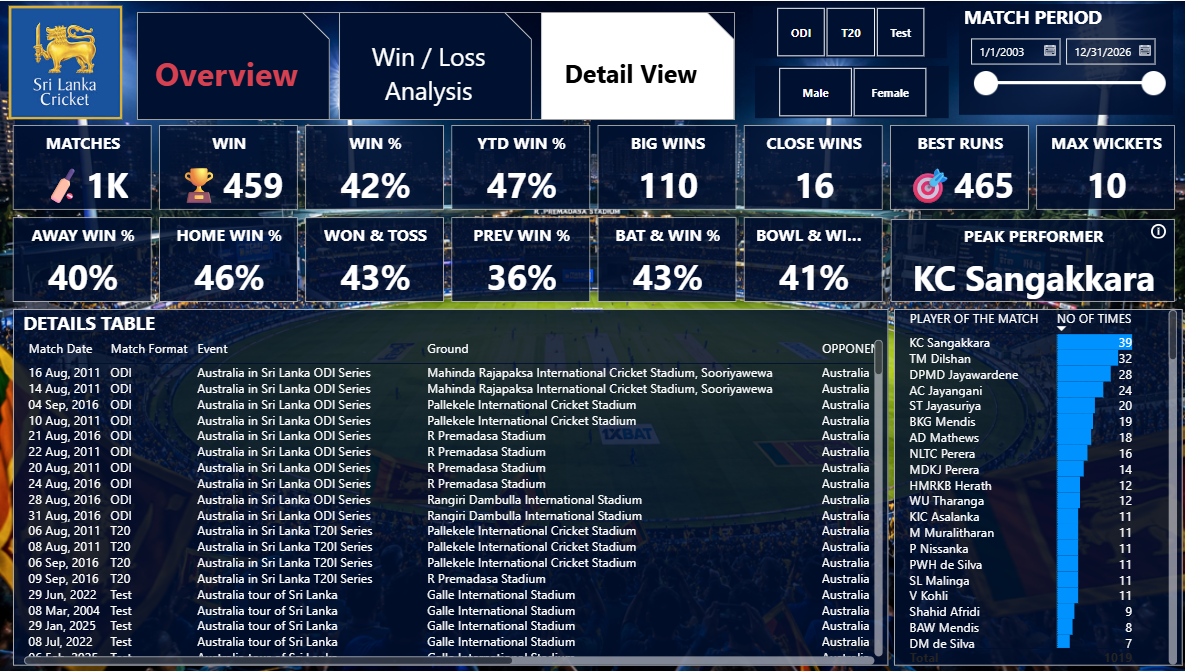

This screenshot's page, from the dashboard's own definition file:
{"tool":"powerbi","page":{"name":"Detail View","canvas":[1280,720],"ordinal":2},"visuals":[{"type":"image","box":[8.8,0,132.3,132.3],"z":0},{"type":"cardVisual","fields":{"Data":["Measures (2).No of Matches","Measures (2).WON","Measures (2).Win %","Measures (2).Win % Current Year","Measures (2).Big Wins","Measures (2).Close Wins","Measures (2).Biggest Win (Runs)","Measures (2).Biggest Win (Wickets)","Measures (2).Away Win %","Measures (2).Home Win %","Measures (2).Toss Win Match Win %","Measures (2).Win % Previous Year"]},"box":[15,133.2,1258.5,190.1],"z":1000},{"type":"slicer","title":"MATCH FORMAT","fields":{"Values":["SLcricketData.Match_Format"]},"box":[813.4,5,208.3,56.1],"z":4000},{"type":"slicer","title":"MATCH PERIOD","fields":{"Values":["Calendar.Date"]},"box":[1034.2,3.7,229.6,118.5],"z":5000},{"type":"slicer","title":"MATCH FORMAT","fields":{"Values":["SLcricketData.Gender"]},"box":[814.7,69.9,208.3,56.1],"z":7000},{"type":"pageNavigator","box":[151.4,11.6,642.6,116.5],"z":9000},{"type":"tableEx","title":"DETAILS TABLE","fields":{"Values":["SLcricketData.Match_Date","SLcricketData.Match_Format","SLcricketData.Event_Name","SLcricketData.Ground","SLcricketData.Opponent","SLcricketData.Gender","SLcricketData.Home_Away","SLcricketData.Margin","SLcricketData.Toss_Winner","SLcricketData.Toss_Decision","SLcricketData.Winner","SLcricketData.Player_of_Match"]},"box":[18.3,330.7,939.6,383.4],"z":15500},{"type":"tableEx","fields":{"Values":["SLcricketData.Player_of_Match","CountNonNull(SLcricketData.Player_of_Match)"]},"box":[964,331,309.5,383.2],"z":15501},{"type":"cardVisual","fields":{"Data":["Measures (2).Most Frequent Player of Match"]},"box":[957.4,234,310.4,89.5],"z":15502},{"type":"actionButton","box":[1236,234.1,24.7,25.8],"z":15503}]}

Visuals, with their boxes in screenshot pixels (x1, y1, x2, y2), scaled from the page's 1280x720 canvas onto the 1185x671 screenshot:
image: (left=8, top=0, right=131, bottom=123)
cardVisual - Measures (2).No of Matches x Measures (2).WON: (left=14, top=124, right=1179, bottom=301)
"MATCH FORMAT" slicer: (left=753, top=5, right=946, bottom=57)
"MATCH PERIOD" slicer: (left=957, top=3, right=1170, bottom=114)
"MATCH FORMAT" slicer: (left=754, top=65, right=947, bottom=117)
pageNavigator: (left=140, top=11, right=735, bottom=119)
"DETAILS TABLE" tableEx: (left=17, top=308, right=887, bottom=666)
tableEx - SLcricketData.Player_of_Match x CountNonNull(SLcricketData.Player_of_Match): (left=892, top=308, right=1179, bottom=666)
cardVisual - Measures (2).Most Frequent Player of Match: (left=886, top=218, right=1174, bottom=301)
actionButton: (left=1144, top=218, right=1167, bottom=242)
